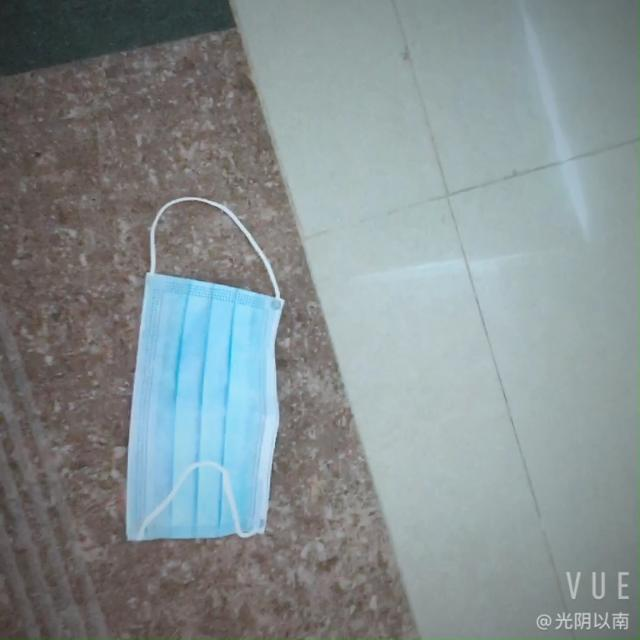non-organic waste: (103, 263, 297, 542)
